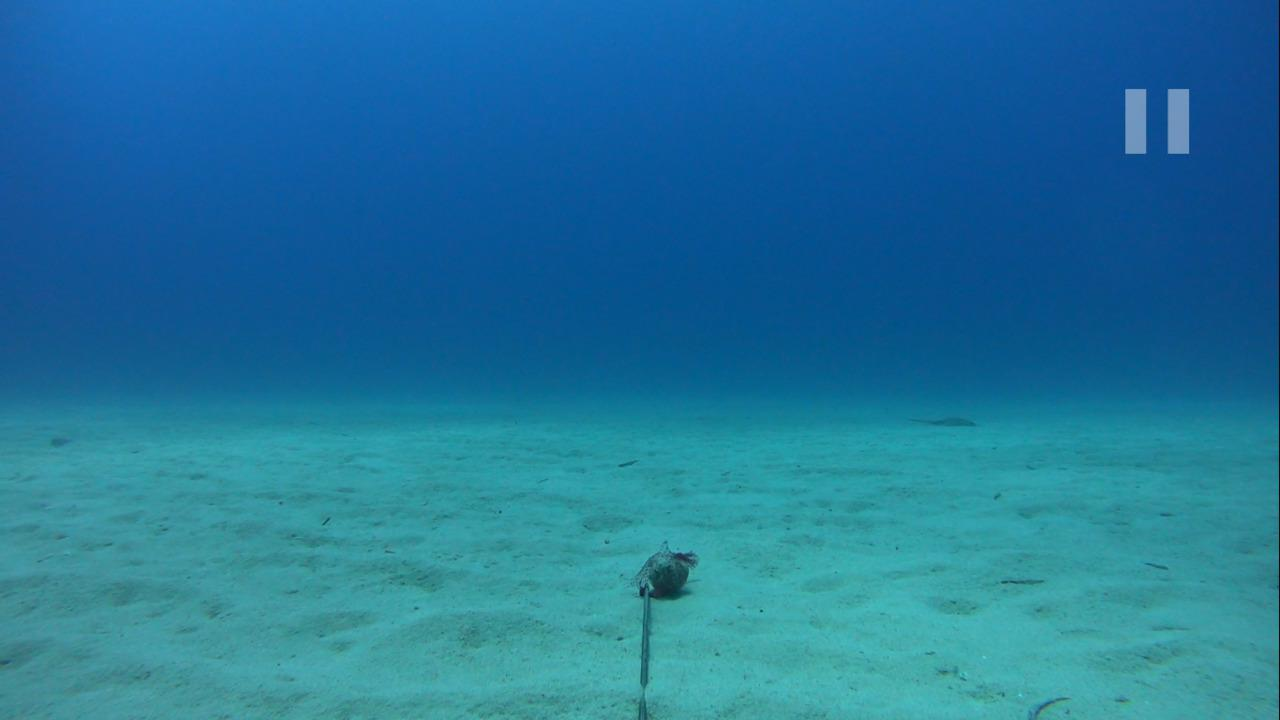myliobatis: (886, 407, 982, 434)
